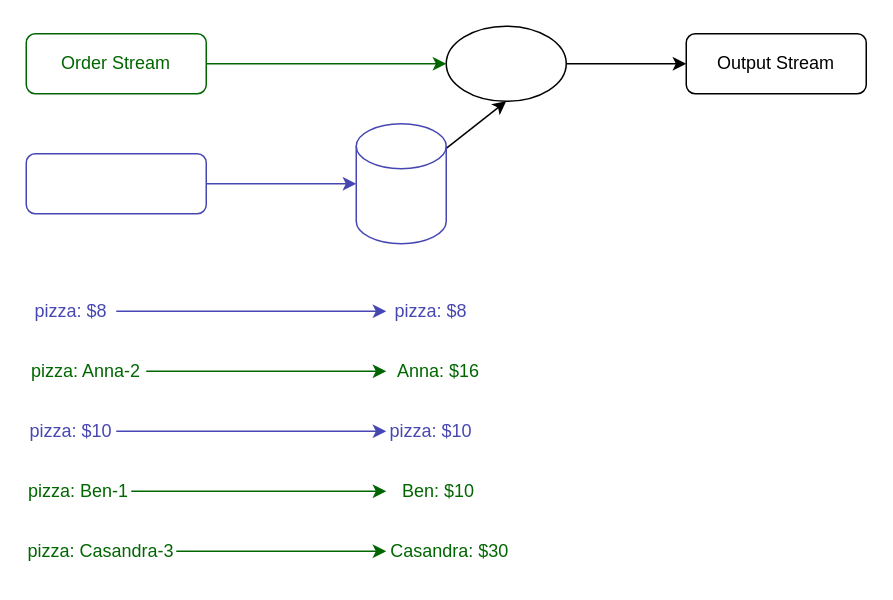
This 893x600 diagram has some shape labels left out. Each missing label, with the centre of its shape:
"Join" belongs at point (505, 63).
"Price Table" belongs at point (115, 183).
